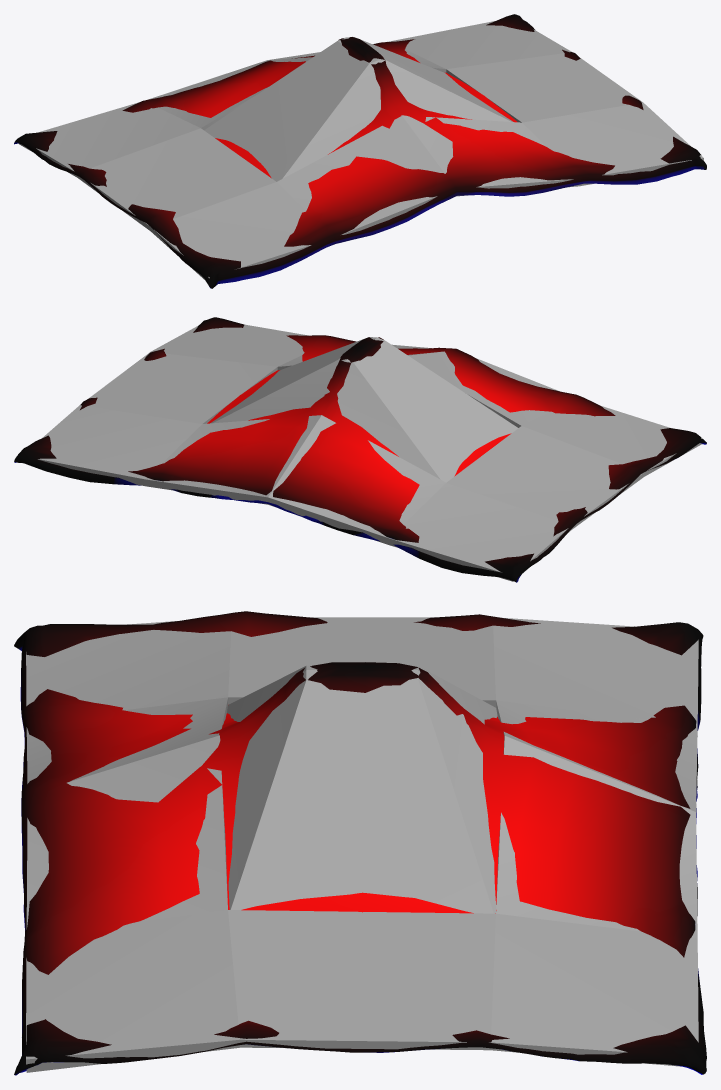
The model's file is Tent_01_Mesh.fbx.
The picture shows the model from 3 angles, top to bottom: view 1: azimuth 30°, elevation 25°; view 2: azimuth 150°, elevation 25°; view 3: azimuth 270°, elevation 25°; orthographic projection. The views are drawn at different scales.
Visible parts, largest first — view 1: Tent_01, Tent_01_LOD0; view 2: Tent_01, Tent_01_LOD0; view 3: Tent_01, Tent_01_LOD0.
Boxes of the visible parts, x1=… form: Tent_01: x1=19, y1=21, x2=703, y2=280; Tent_01_LOD0: x1=14, y1=14, x2=706, y2=288; Tent_01: x1=37, y1=324, x2=702, y2=581; Tent_01_LOD0: x1=14, y1=317, x2=706, y2=582; Tent_01: x1=26, y1=617, x2=698, y2=1072; Tent_01_LOD0: x1=14, y1=611, x2=706, y2=1075.
Size of what is drawn, in the model's own units: 130769 by 27929 by 87749.
